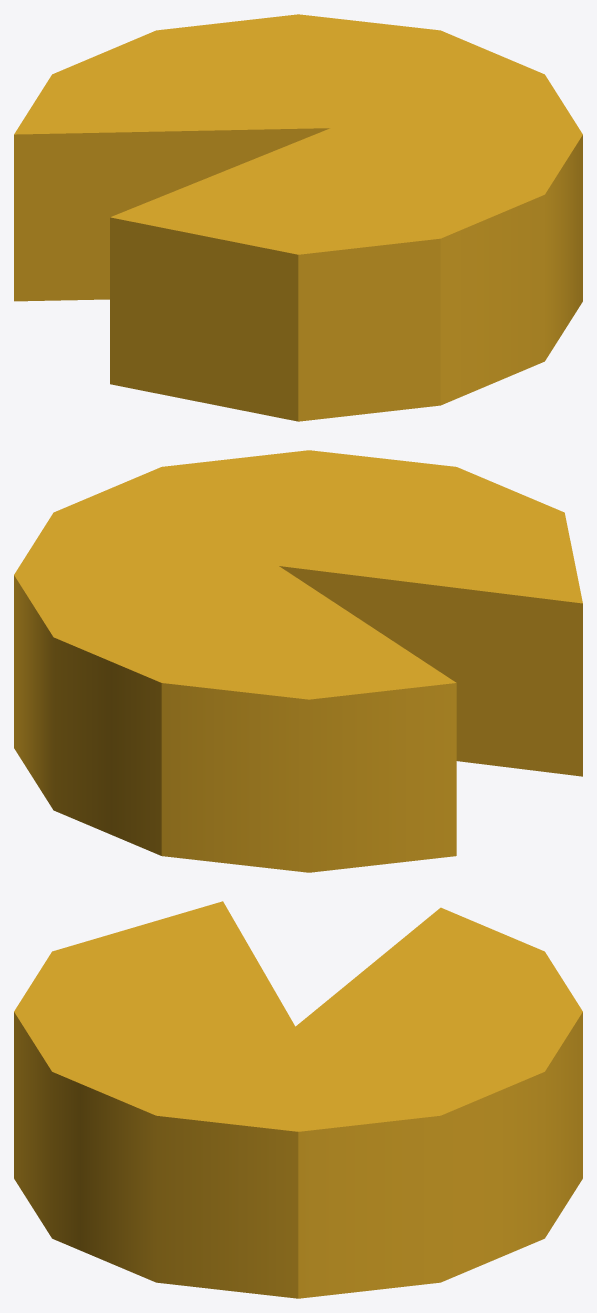
The model's file is queso.fbx.
3 renders of one model, top to bottom at view 1: azimuth 30°, elevation 25°; view 2: azimuth 150°, elevation 25°; view 3: azimuth 270°, elevation 25°, orthographic. The views are drawn at different scales.
Visible parts, largest first — view 1: Cylinder.031; view 2: Cylinder.031; view 3: Cylinder.031.
Boxes of the visible parts, box(x1,y1,x2,y2) form: Cylinder.031: box(14, 14, 582, 421); Cylinder.031: box(14, 450, 582, 872); Cylinder.031: box(14, 901, 582, 1298).
Size of the model in its own units: 149 by 50.41 by 156.
